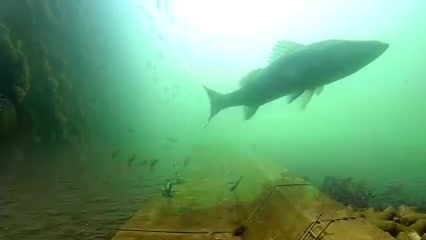suzuki: (201, 23, 399, 130)
